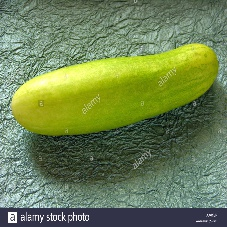cucumber: (12, 47, 217, 135)
